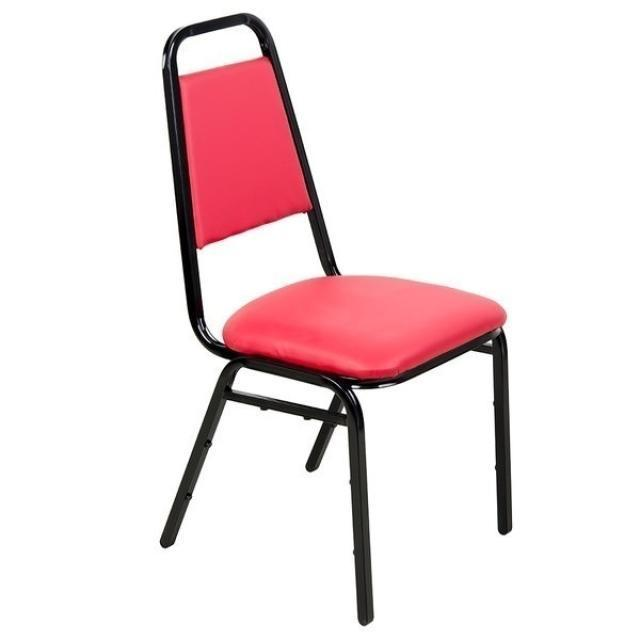chair: (158, 11, 536, 626)
